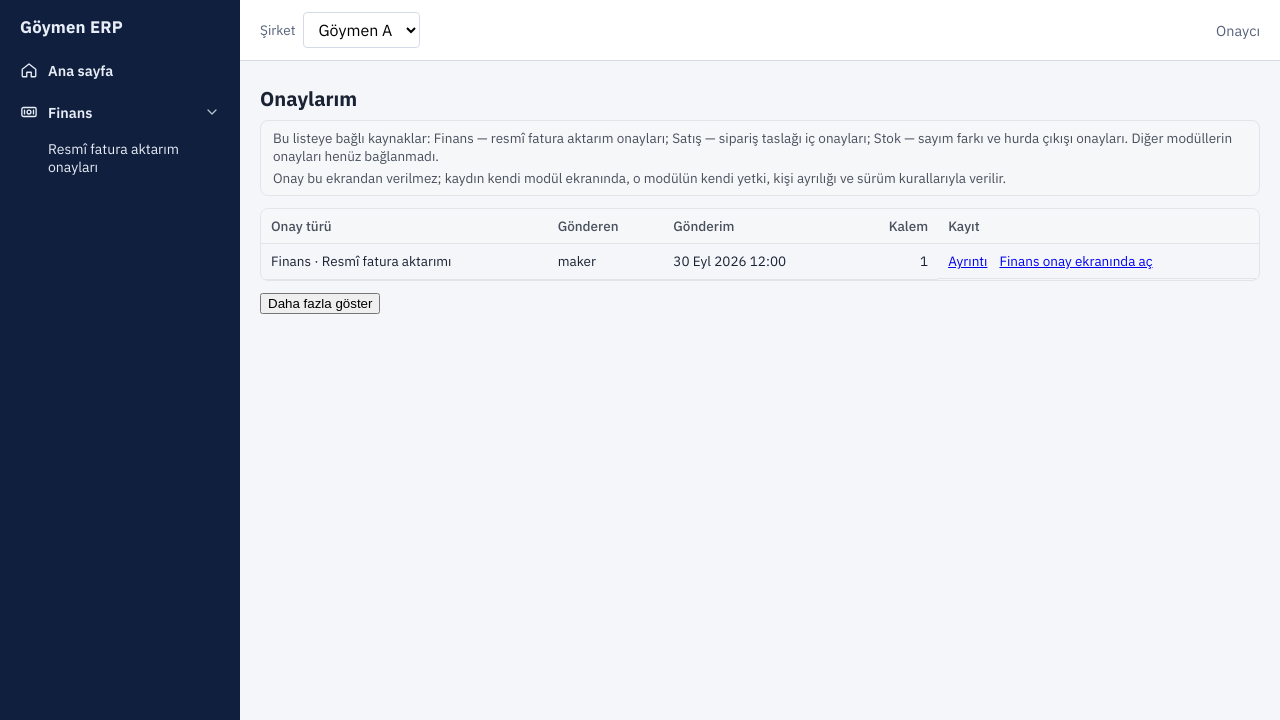
it: /onaylarim — the Finance pilot inbox › pages with the owner's cursor and never repeats a row
Expected: the text "Onaycı" is shown, [1216,20,1260,40]
Step 1. Click the button "Daha fazla göster" → (320, 303), box [260,292,380,314]
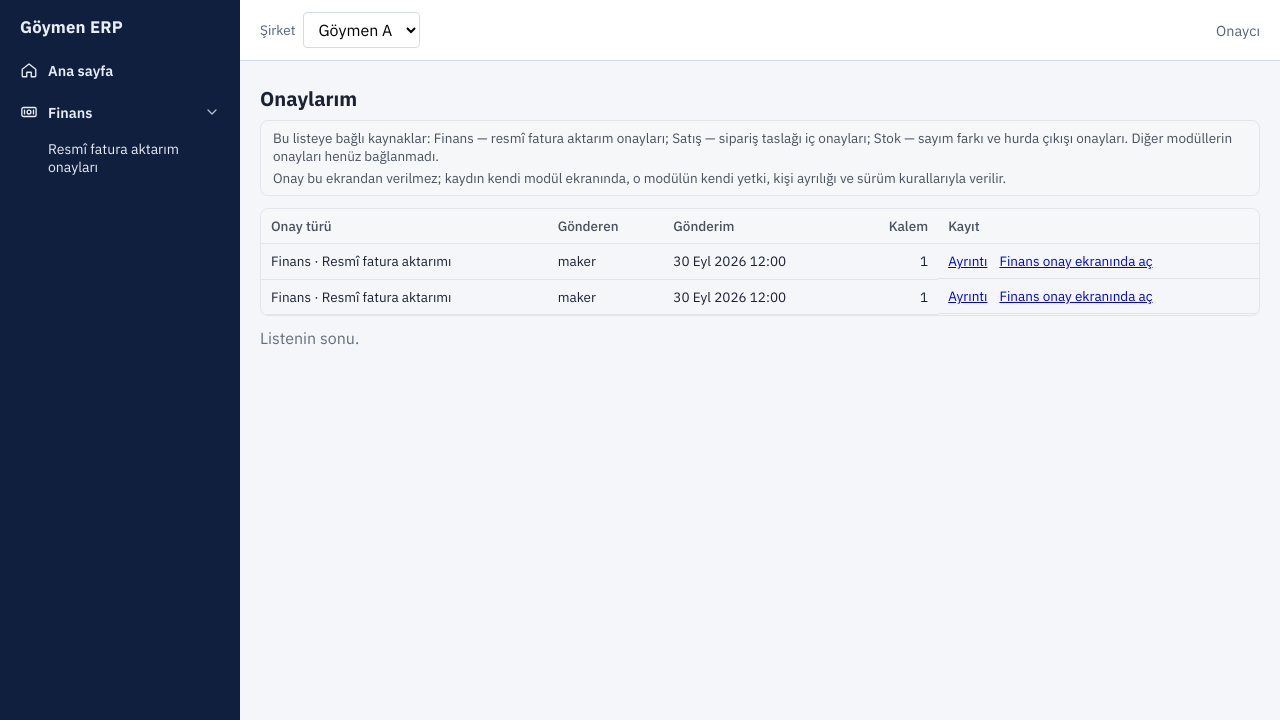
Expected: the number of rows is 3, [261,209,1259,244]; [261,244,1259,279]; [261,279,1259,314]
